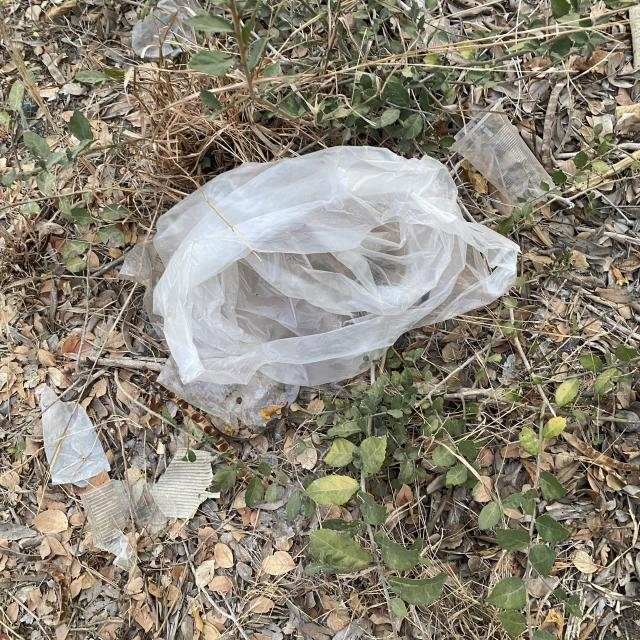Single-layer Plastic: (154, 146, 519, 386), (40, 385, 110, 488), (131, 0, 200, 59)
